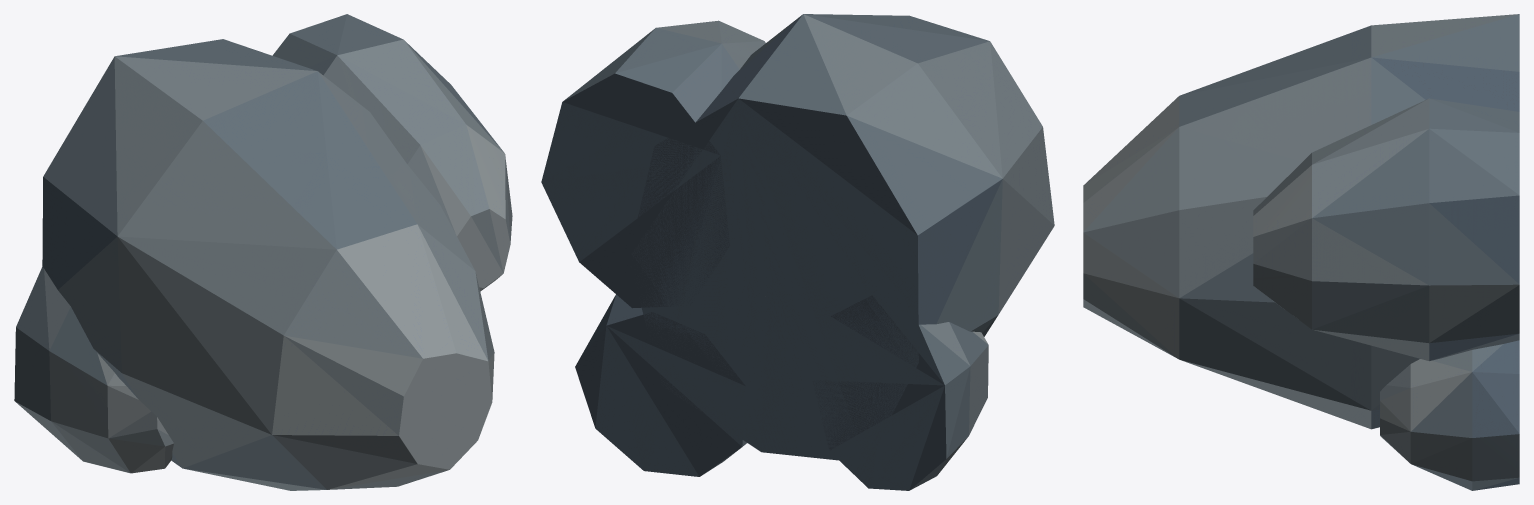
Rendered from k-crag-a.glb.
3 renders of one model, left to right at view 1: azimuth 30°, elevation 25°; view 2: azimuth 150°, elevation 25°; view 3: azimuth 270°, elevation 25°, orthographic. The views are drawn at different scales.
Parts seen in each view (by area): view 1: Solid, Chunk_05, Chunk_00, Chunk_01, Chunk_10, Chunk_06, Chunk_13, Chunk_02, Chunk_18, Chunk_03, Chunk_14, Chunk_09 (+2 smaller); view 2: Solid, Chunk_10, Chunk_09, Chunk_08, Chunk_14, Chunk_11, Chunk_18, Chunk_05, Chunk_19, Chunk_20, Chunk_17, Chunk_06 (+6 smaller); view 3: Solid, Chunk_06, Chunk_03, Chunk_11, Chunk_02, Chunk_00, Chunk_15, Chunk_19, Chunk_10, Chunk_08, Chunk_04, Chunk_14.
Boxes of the visible parts, box(x1,y1,x2,y2) form: Solid: box(15, 14, 503, 490); Chunk_05: box(77, 153, 306, 432); Chunk_00: box(288, 149, 484, 395); Chunk_01: box(198, 285, 418, 489); Chunk_10: box(42, 39, 295, 262); Chunk_06: box(333, 23, 512, 283); Chunk_13: box(41, 361, 173, 473); Chunk_02: box(346, 294, 494, 488); Chunk_18: box(14, 266, 87, 424); Chunk_03: box(292, 63, 481, 295); Chunk_14: box(272, 22, 353, 98); Chunk_09: box(42, 256, 237, 479); Solid: box(541, 14, 1054, 490); Chunk_10: box(713, 23, 976, 314); Chunk_09: box(712, 279, 995, 463); Chunk_08: box(630, 73, 772, 416); Chunk_14: box(638, 42, 745, 307); Chunk_11: box(541, 63, 647, 307); Chunk_18: box(881, 306, 979, 487); Chunk_05: box(936, 48, 1019, 319); Chunk_19: box(575, 309, 661, 472); Chunk_20: box(662, 318, 746, 475); Chunk_17: box(813, 311, 881, 488); Chunk_06: box(629, 20, 765, 71); Solid: box(1083, 14, 1519, 490); Chunk_06: box(1253, 100, 1501, 333); Chunk_03: box(1171, 53, 1448, 333); Chunk_11: box(1354, 122, 1519, 354); Chunk_02: box(1083, 223, 1309, 388); Chunk_00: box(1083, 61, 1302, 228); Chunk_15: box(1380, 340, 1519, 464); Chunk_19: box(1413, 349, 1519, 490); Chunk_10: box(1371, 14, 1519, 102); Chunk_08: box(1296, 94, 1519, 411); Chunk_04: box(1249, 364, 1379, 429); Chunk_14: box(1423, 98, 1519, 124).
Bounding box in the file's own units: 0.01 × 0.01 × 0.01.
1 material, 1 textured.
